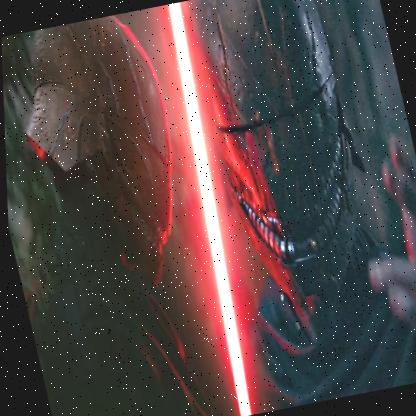sith_lightsaber: (155, 0, 258, 416)
